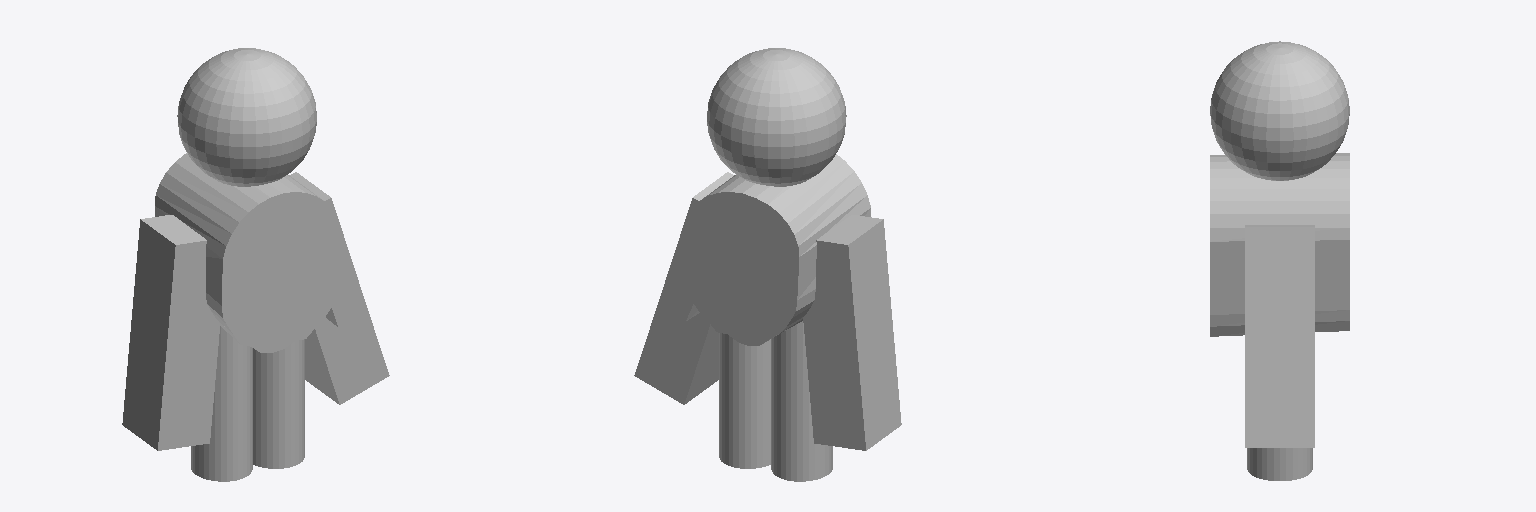
Rendered from Figurine56.obj.
3 views of the same model, side by side, from view 1: azimuth 30°, elevation 25°; view 2: azimuth 150°, elevation 25°; view 3: azimuth 270°, elevation 25° (orthographic).
Parts seen in each view (by area): view 1: Cylinder; view 2: Cylinder; view 3: Cylinder.
Part boxes in pixels (bbox=[...]): Cylinder: bbox=[122, 48, 389, 481]; Cylinder: bbox=[634, 48, 901, 481]; Cylinder: bbox=[1210, 41, 1349, 480].
Size of the model in its own units: 3.82 by 6.42 by 2.